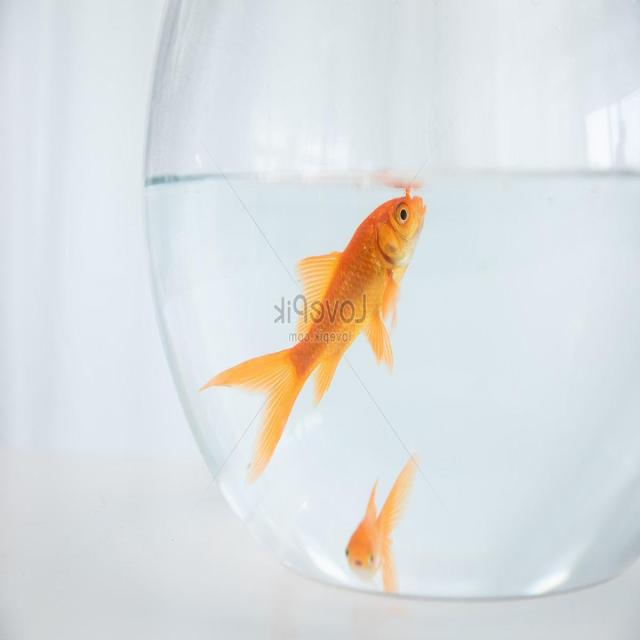GoldFish: (192, 184, 434, 480), (344, 440, 419, 600)
